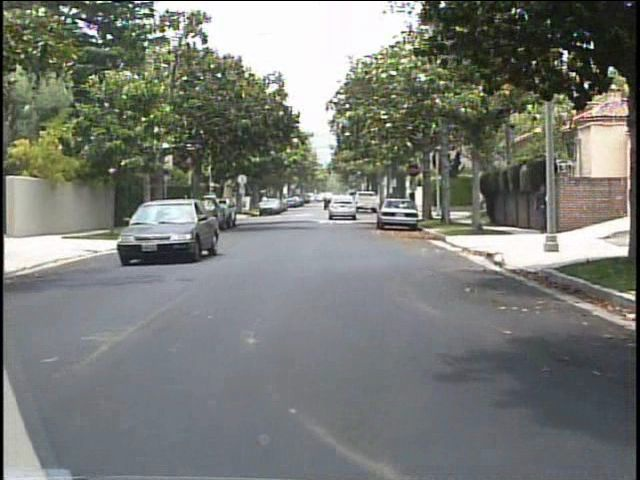person: (531, 179, 551, 238), (167, 193, 183, 231)
